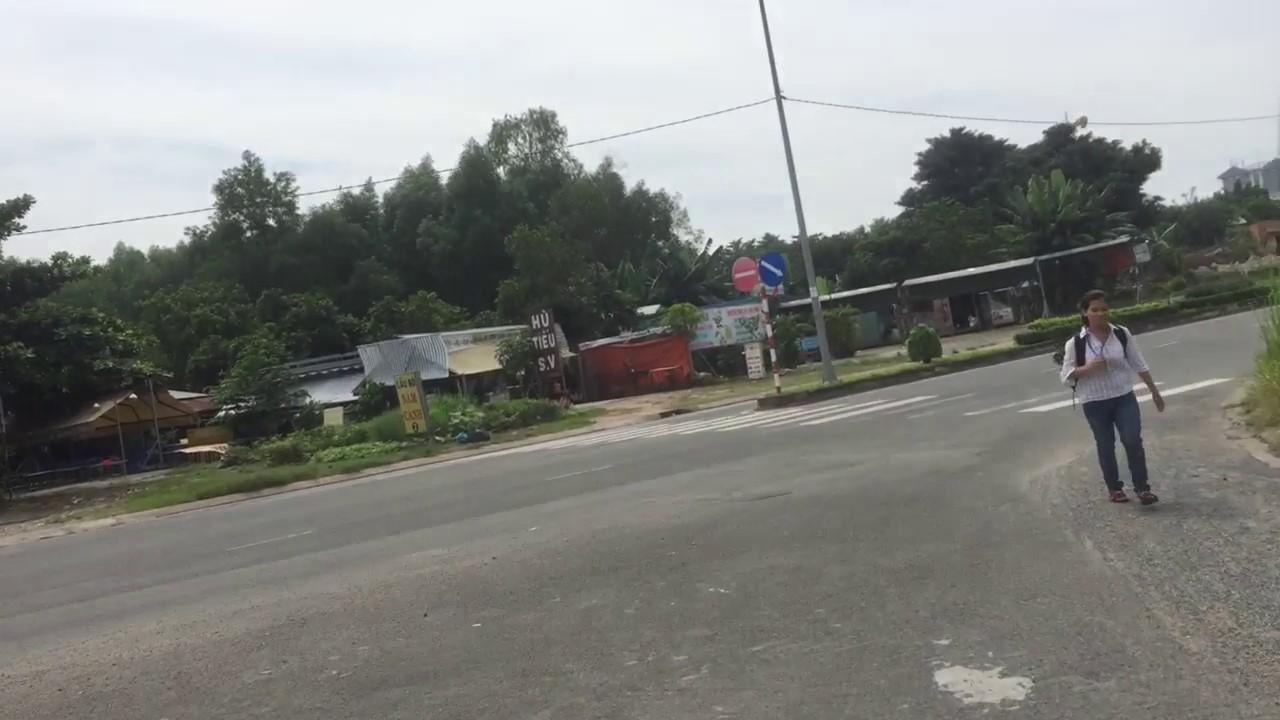DP.135: (731, 253, 756, 292)
P.130: (758, 250, 786, 290)
